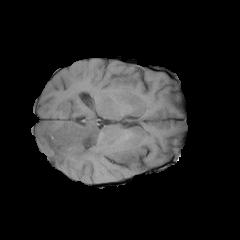glioma: (42, 122, 141, 173)
